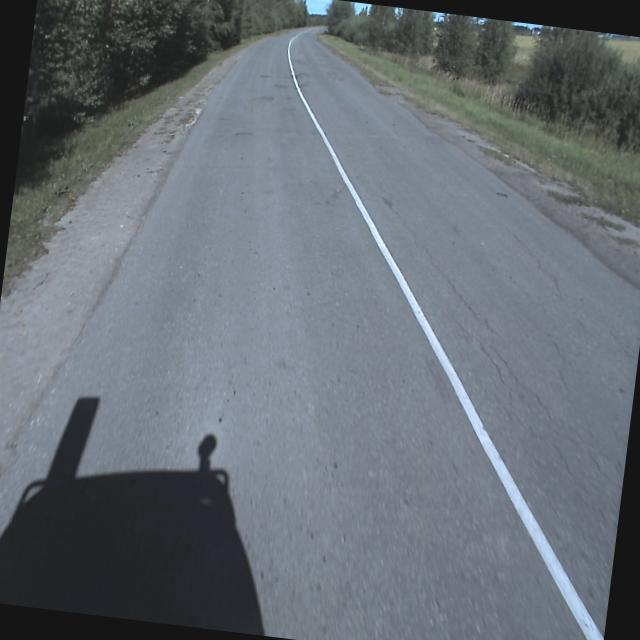road: (0, 26, 640, 640)
